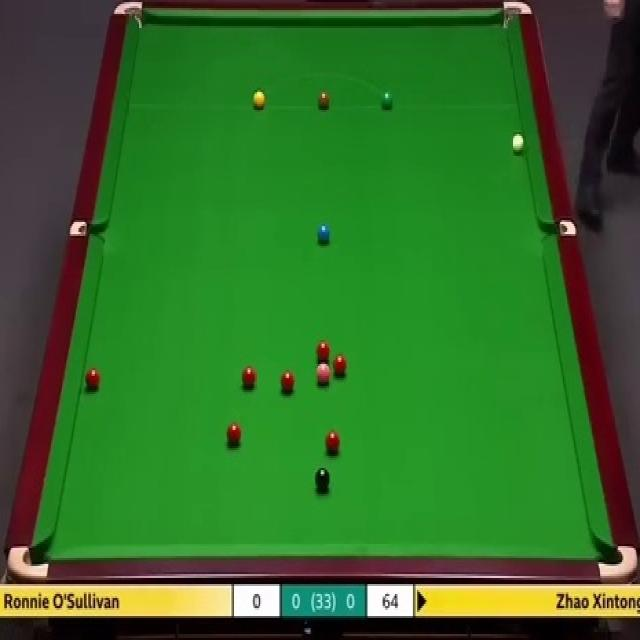black-ball: (314, 468, 331, 493)
blue-ball: (316, 224, 332, 245)
brown-ball: (317, 90, 330, 110)
green-ball: (380, 91, 396, 112)
pink-ball: (316, 361, 331, 386)
red-ball: (332, 354, 350, 378), (241, 366, 257, 391), (226, 424, 241, 449), (325, 432, 341, 454), (85, 368, 100, 390), (316, 340, 331, 362), (281, 372, 294, 394)
white-ball: (511, 132, 525, 156)
yellow-ball: (251, 89, 265, 109)
